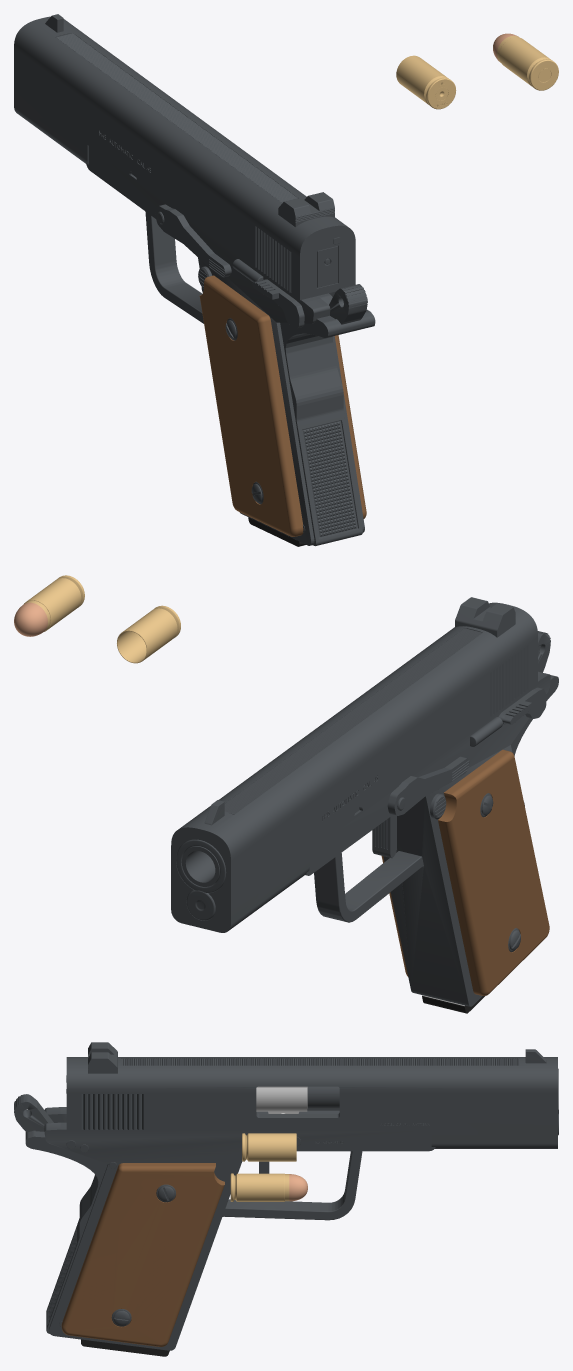
File: pistol.glb
3 renders of one model, top to bottom at view 1: azimuth 30°, elevation 25°; view 2: azimuth 150°, elevation 25°; view 3: azimuth 270°, elevation 25°, orthographic. The views are drawn at different scales.
Visible parts, largest first — view 1: Slide, Frame, Grips, GripSafety, Round, Casing, SlideStop, Hammer; view 2: Slide, Frame, Grips, Round, Casing, SlideStop, Barrel, Trigger; view 3: Slide, Grips, Frame, Barrel, Round, GripSafety, Casing, Hammer, Magazine, GripScrews.
Part boxes in pixels (x1,y1,x2,y2): Slide: (14,14,355,300); Frame: (86,146,367,546); Grips: (199,275,366,536); GripSafety: (280,309,375,429); Round: (493,33,558,90); Casing: (396,55,456,109); SlideStop: (155,204,231,277); Hammer: (318,284,367,324); Slide: (171,597,537,932); Frame: (305,671,550,1006); Grips: (381,749,549,995); Round: (14,575,84,636); Casing: (117,605,180,663); SlideStop: (387,756,469,815); Barrel: (181,846,219,886); Trigger: (372,815,396,857); Slide: (66,1042,558,1148); Grips: (61,1163,224,1346); Frame: (44,1107,435,1350); Barrel: (256,1086,339,1113); Round: (230,1173,307,1201); GripSafety: (25,1122,107,1244); Casing: (242,1133,296,1161); Hammer: (14,1094,53,1132); Magazine: (81,1339,169,1356); GripScrews: (111,1184,175,1326).
Size of the model in its own units: 0.153 by 0.141 by 0.2285.
